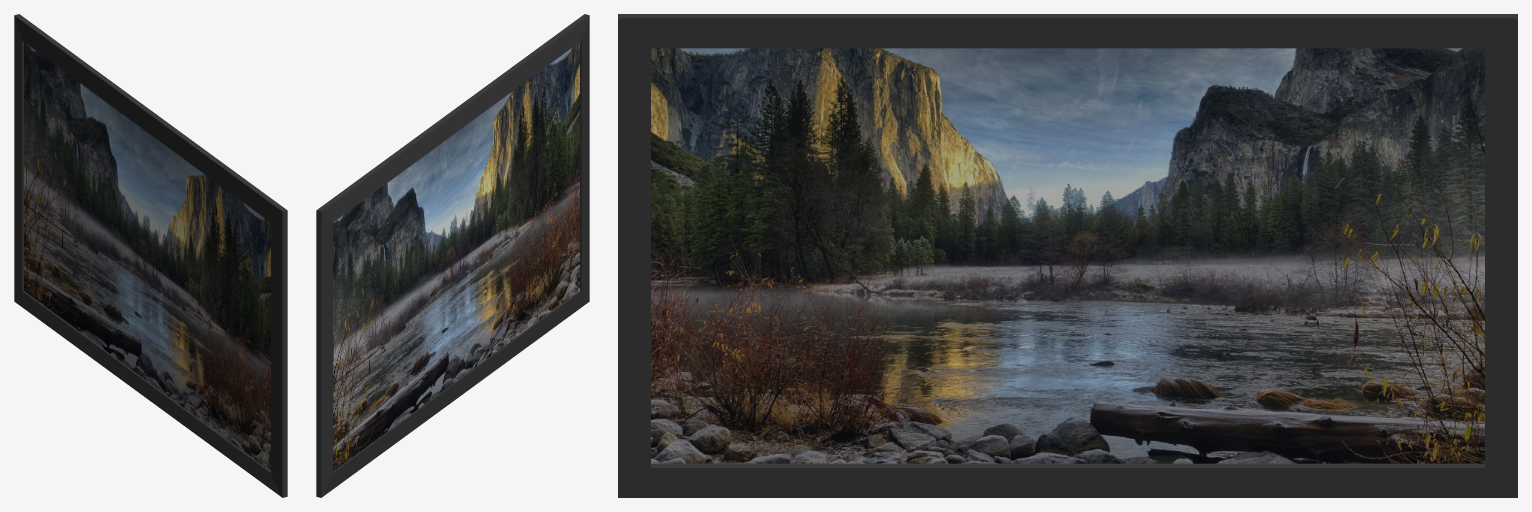
Rendered from Painting_Mountains_Landscape4.fbx.
3 views of the same model, side by side, from view 1: azimuth 30°, elevation 25°; view 2: azimuth 150°, elevation 25°; view 3: azimuth 270°, elevation 25° (orthographic). The views are drawn at different scales.
Parts seen in each view (by area): view 1: mountains_landscape4, PaintingFrame1; view 2: mountains_landscape4, PaintingFrame1; view 3: mountains_landscape4, PaintingFrame1.
Part boxes in pixels (bbox=[...]): mountains_landscape4: bbox=[24, 42, 270, 471]; PaintingFrame1: bbox=[14, 14, 287, 497]; mountains_landscape4: bbox=[333, 42, 579, 471]; PaintingFrame1: bbox=[316, 14, 589, 497]; mountains_landscape4: bbox=[651, 48, 1484, 463]; PaintingFrame1: bbox=[618, 14, 1517, 497].
Size of the model in its own units: 4 by 160 by 272.
